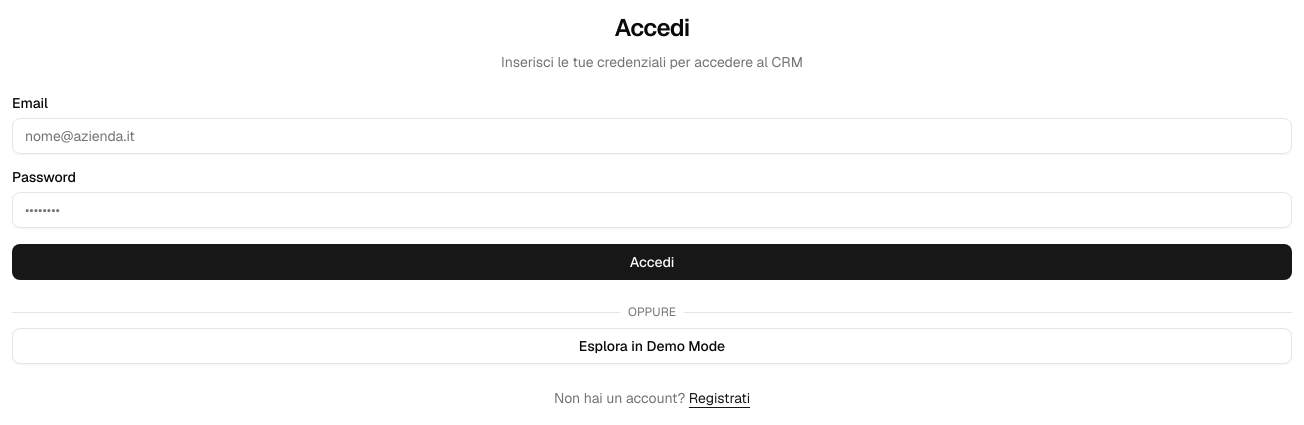
Test: SignInForm › shows loading text while demo is loading
This screenshot has width=1304, height=425.
Click the button "Esplora in Demo Mode" at [652, 346], box [12,328,1292,364]
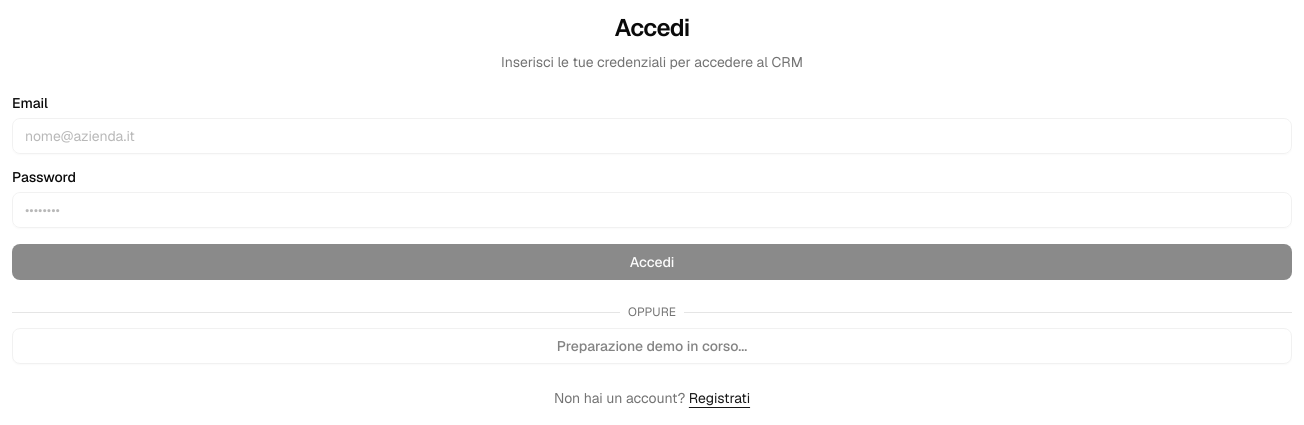
Expected: the button "Preparazione demo in corso..." is shown, [12,328,1292,364]
